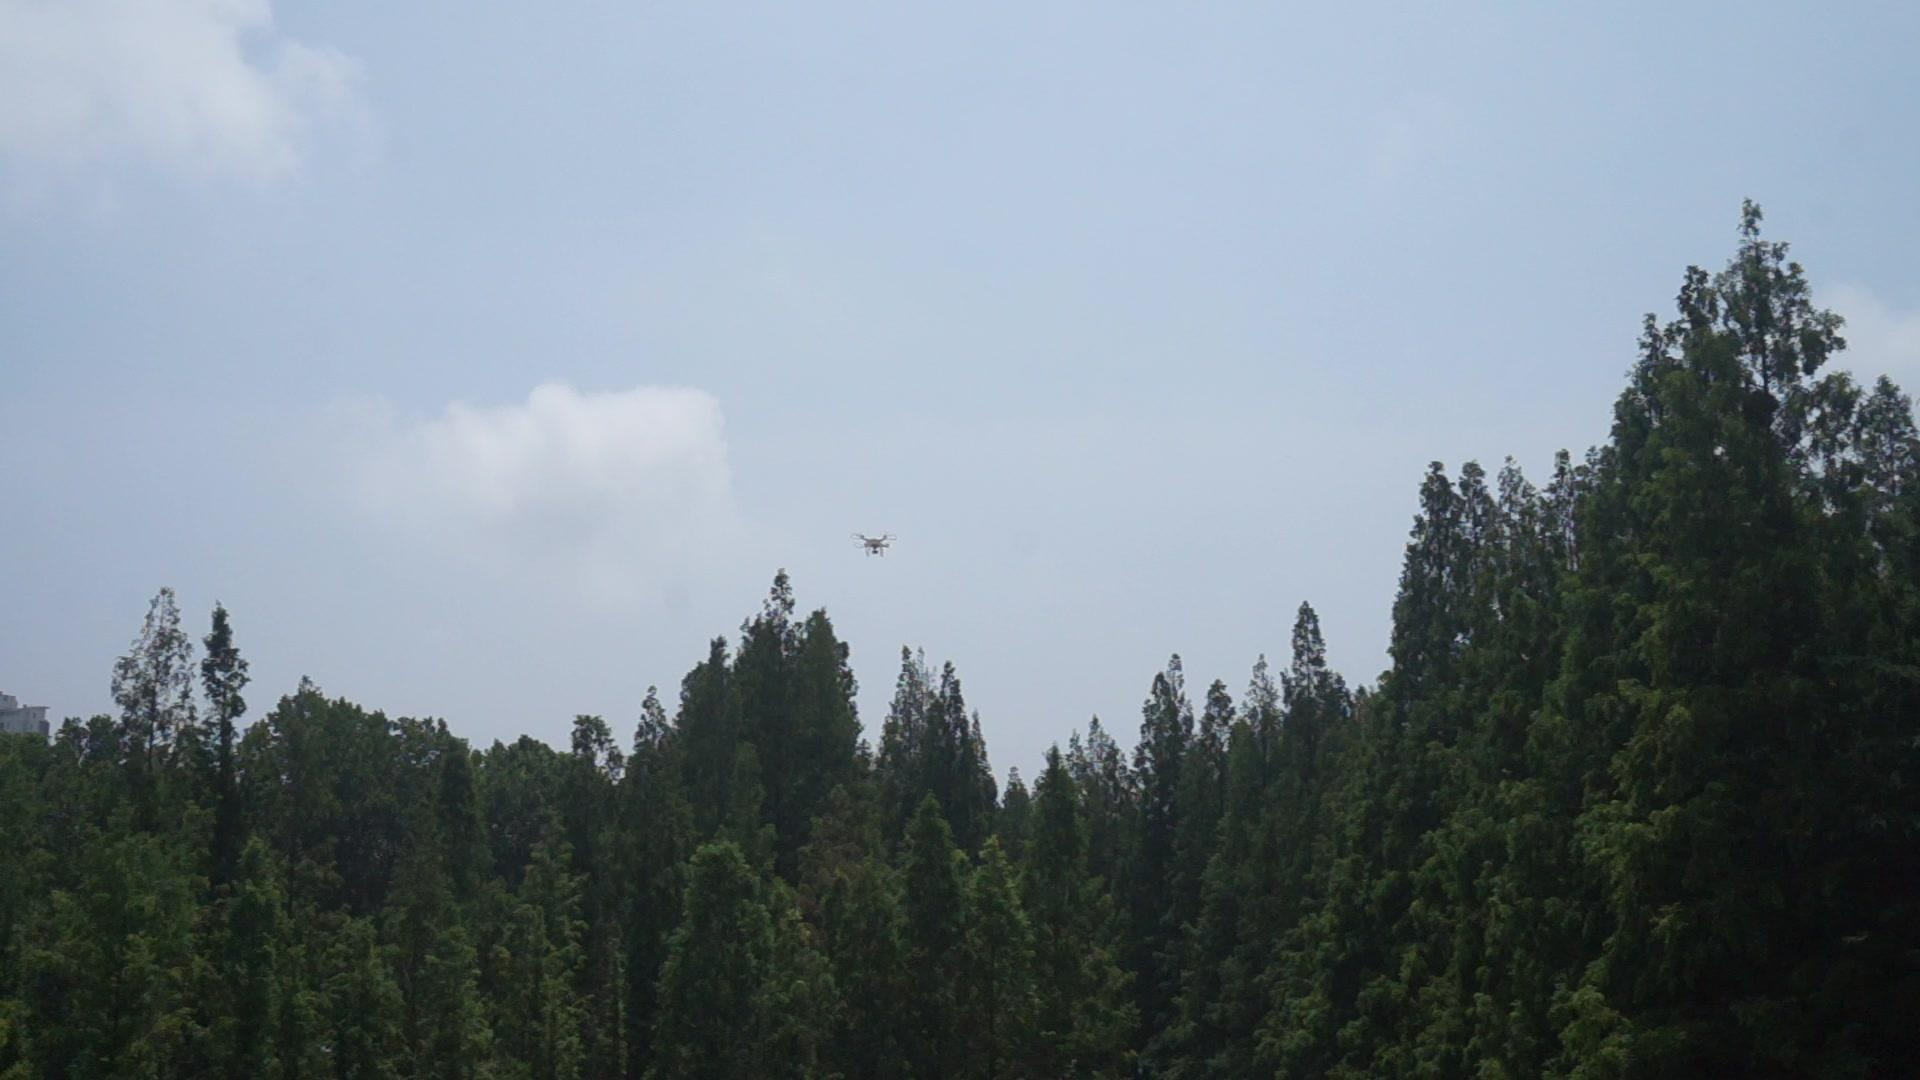UAV: (851, 533, 898, 558)
